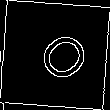O_SW: (22, 22, 88, 88)
